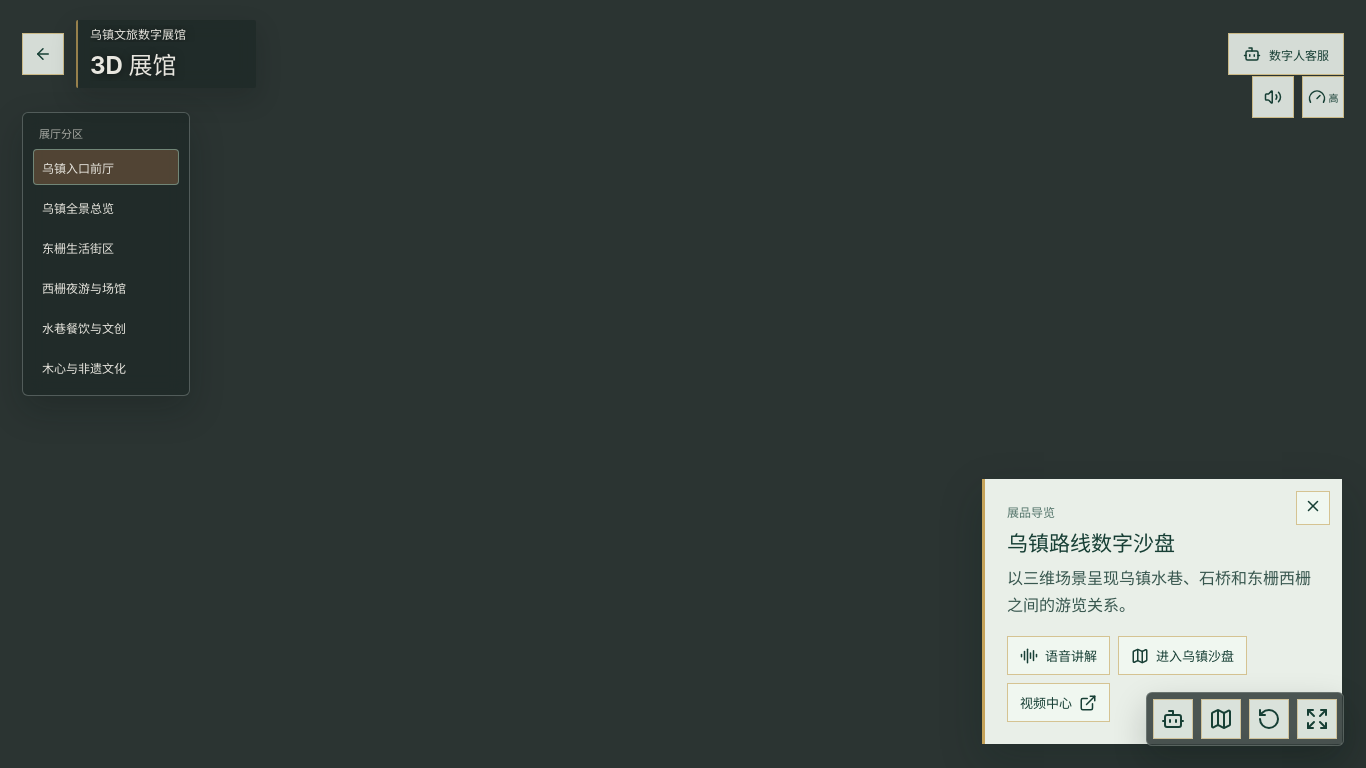
Test case: ExhibitionPage › recovers the previous scene when the target scene fails during a transition
The image size is (1366, 768).
Click the button "进入乌镇沙盘". click: (1182, 656)
box: [1118,636,1247,675]
Wait 600 ms
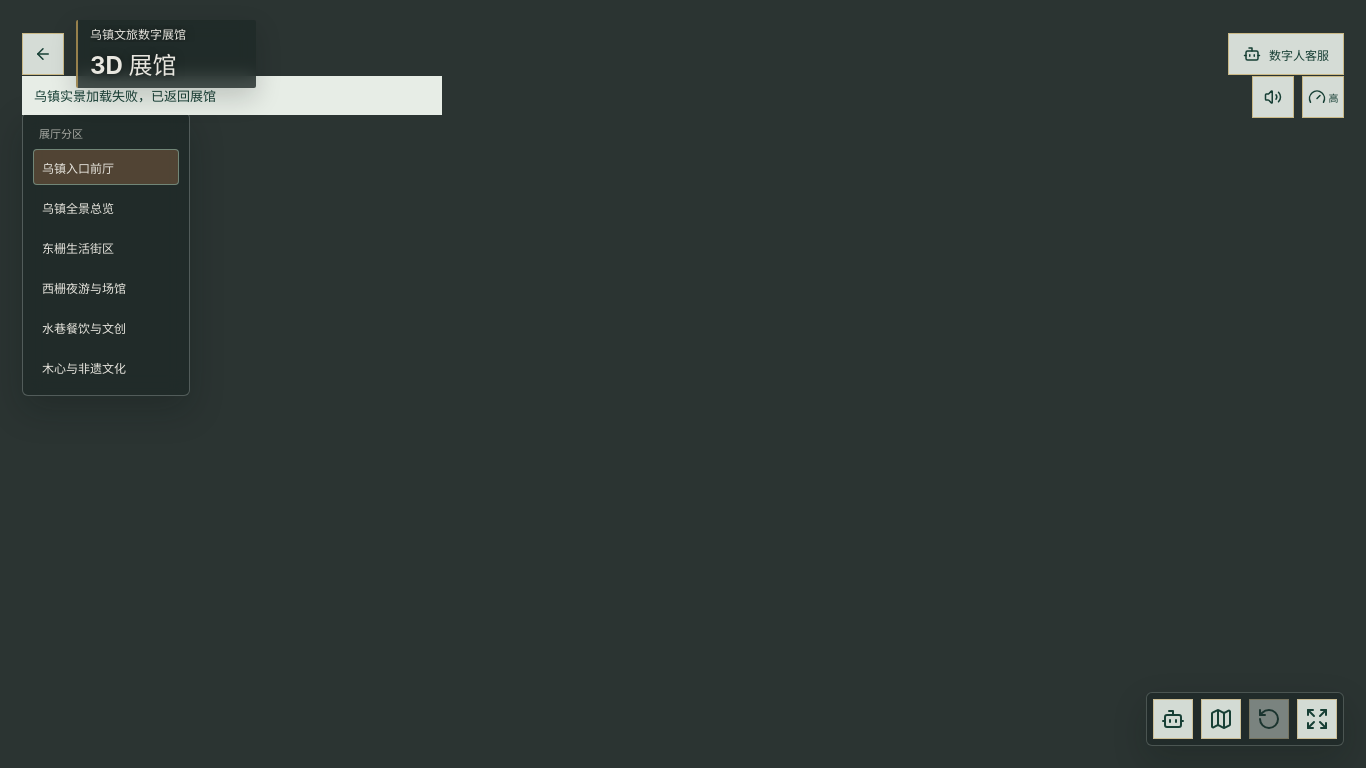
Expected: the button named "返回首页" is enabled, [22,33,64,75]
Now the message reads "乌镇实景加载失败，已返回展馆", box [34,88,216,104]
